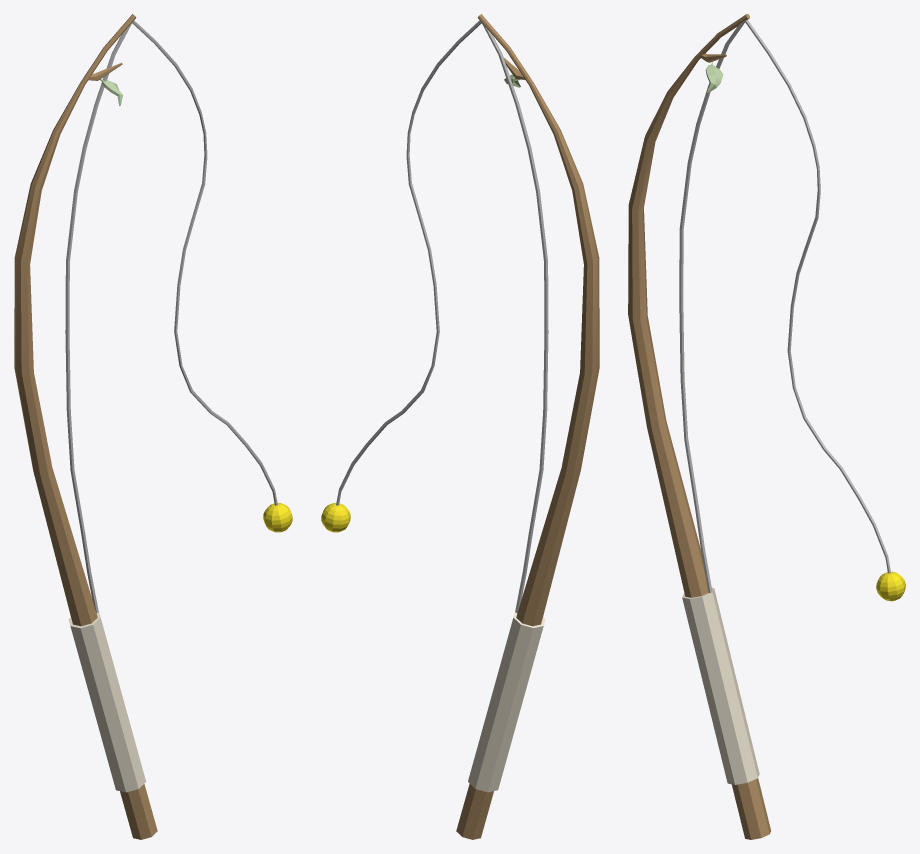
File: prut_ohnuty.glb
3 views of the same model, side by side, from view 1: azimuth 30°, elevation 25°; view 2: azimuth 150°, elevation 25°; view 3: azimuth 330°, elevation 25° (orthographic).
Visible parts, largest first — view 1: prut_ohnuty; view 2: prut_ohnuty; view 3: prut_ohnuty.
Boxes of the visible parts, box(x1,y1,x2,y2) form: prut_ohnuty: box(14, 14, 292, 839); prut_ohnuty: box(321, 14, 599, 839); prut_ohnuty: box(628, 14, 905, 839).
Bounding box in the file's own units: 0.7 × 2 × 0.0966.
